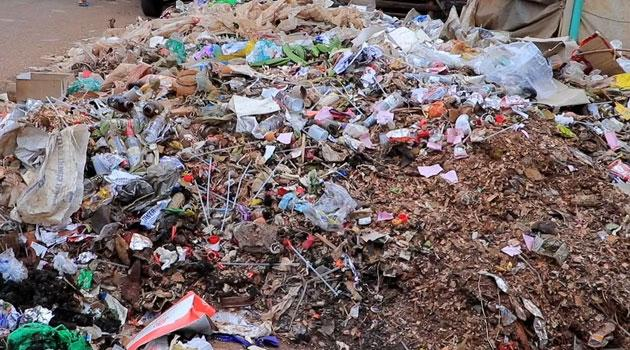garbage: (0, 0, 556, 350)
